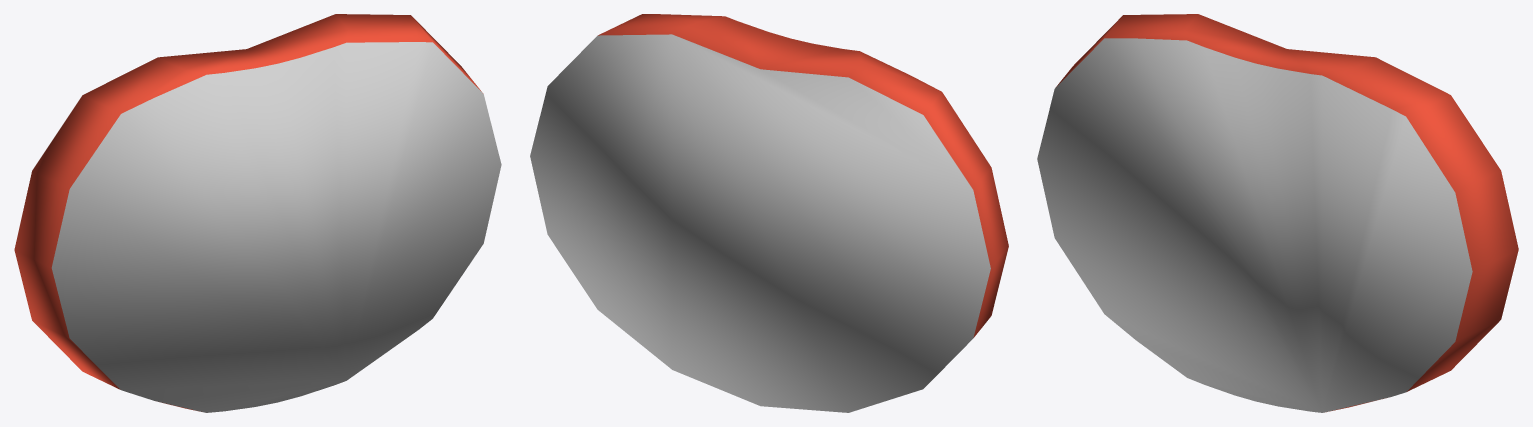
The model's file is ChoppedTomato.fbx.
3 renders of one model, left to right at view 1: azimuth 30°, elevation 25°; view 2: azimuth 150°, elevation 25°; view 3: azimuth 330°, elevation 25°, orthographic.
Parts seen in each view (by area): view 1: TomatoSalad; view 2: TomatoSalad; view 3: TomatoSalad.
Boxes of the visible parts, x1,y1,x2,y2 form: TomatoSalad: [14, 14, 501, 412]; TomatoSalad: [530, 14, 1008, 412]; TomatoSalad: [1037, 14, 1518, 412].
Size of the model in its own units: 0.4718 by 0.3426 by 0.0606.
